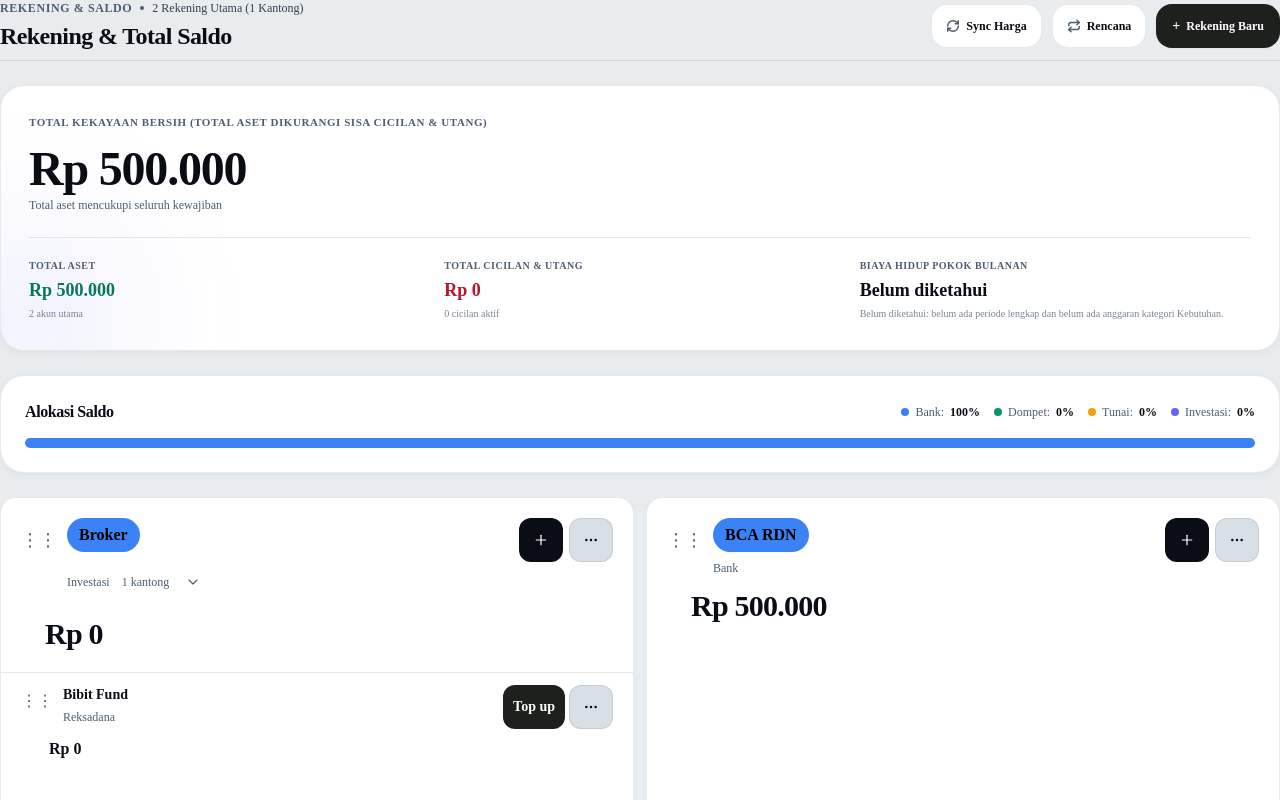
Scenario: account and pocket forms › offers nominal top-up for an eligible product (child=true)
Click the button "Top up" at (534, 706), box x1=503 y1=684 x2=565 y2=728
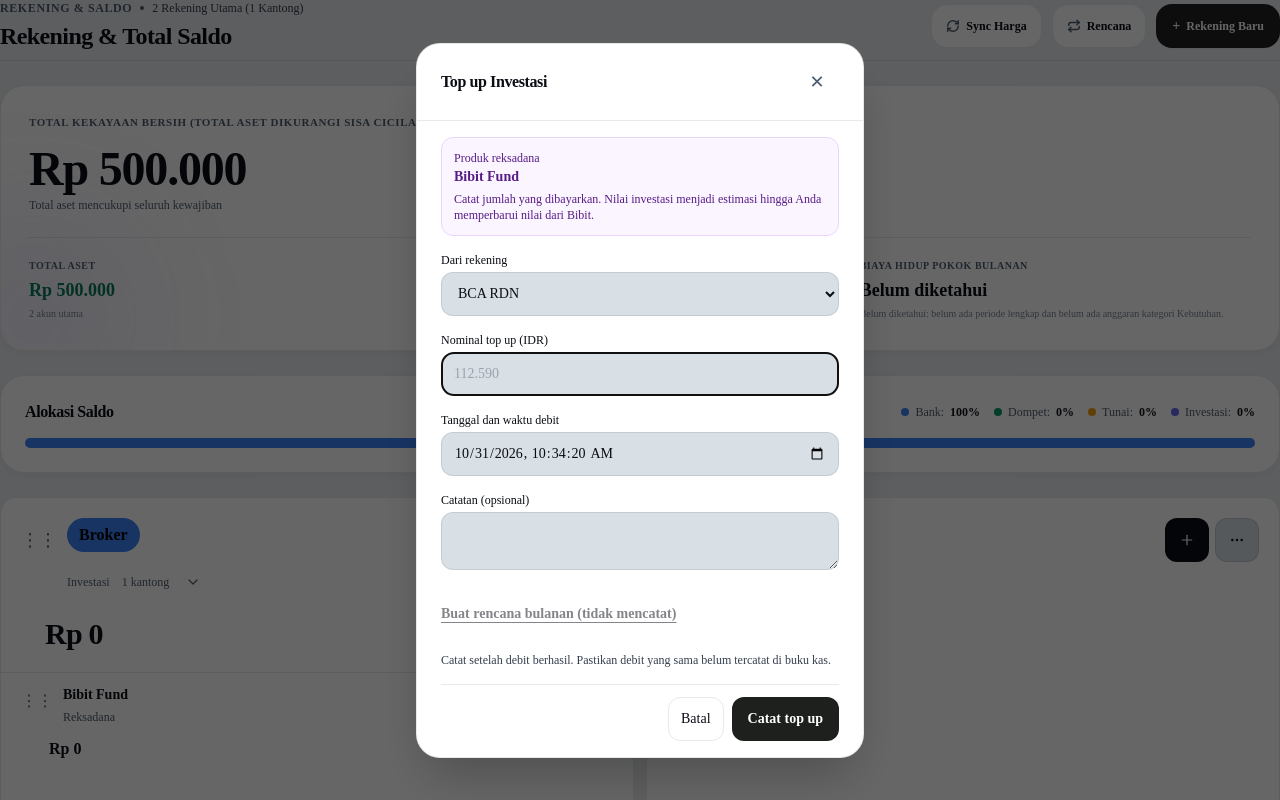
Expected: the text "Bibit Fund" is shown, x1=454 y1=168 x2=519 y2=184
Expected: the dropdown labelled "Dari rekening" shows "BCA RDN", x1=441 y1=272 x2=839 y2=316
